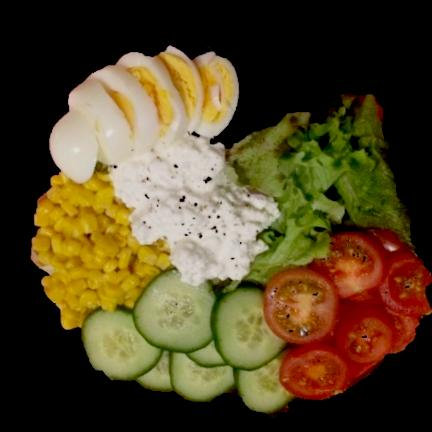corn: (33, 174, 171, 328)
cucumber: (83, 270, 295, 412)
egg: (52, 46, 238, 178)
salad: (229, 95, 414, 284)
tomato: (261, 233, 431, 399)
